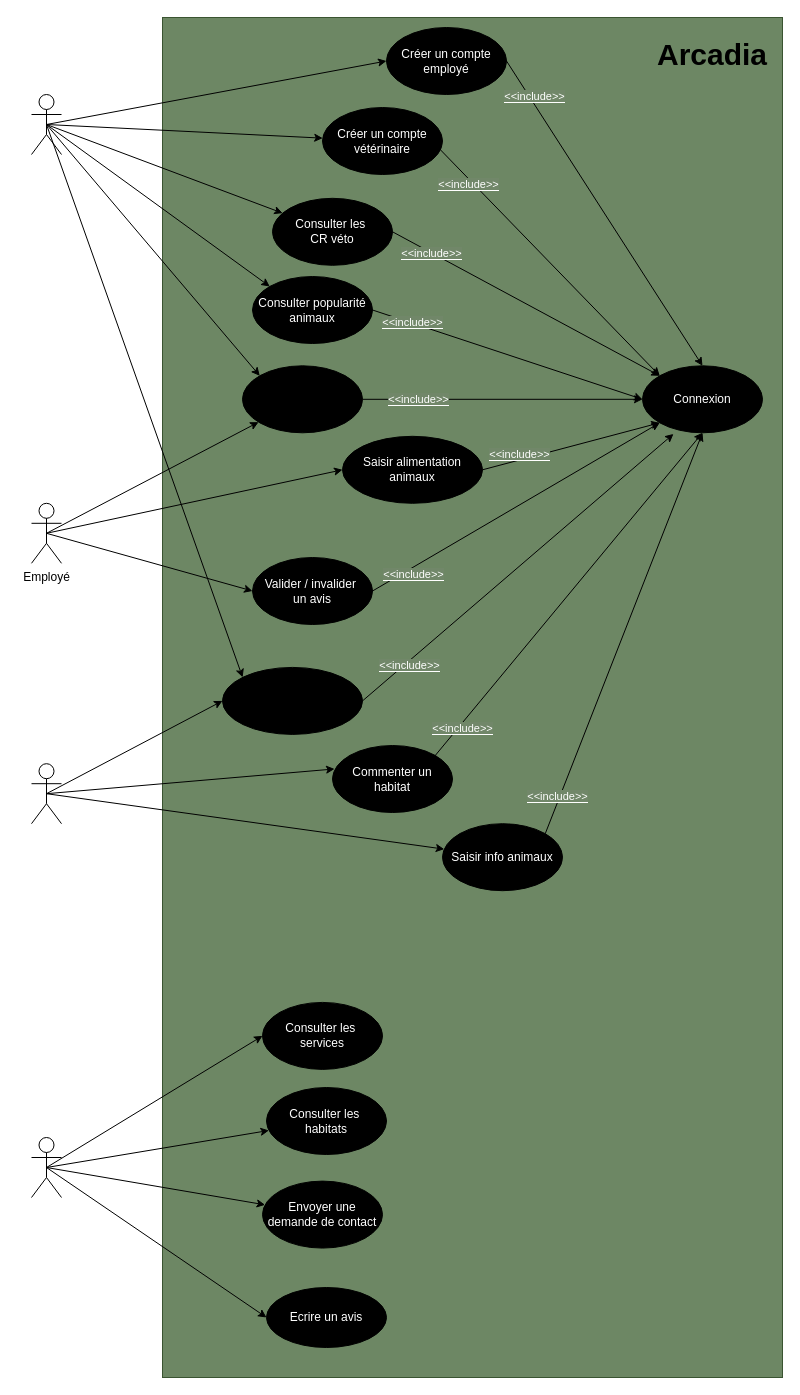
Image size: 800x1395. Some labels were removed from this diagram. Each missing label, with the box of its shape:
Admin: (30, 94, 62, 154)
Consulter alimentation animaux: (222, 666, 362, 734)
Gérer les services: (242, 365, 362, 433)
Visiteur: (30, 1136, 62, 1198)
Vétérinaire: (30, 763, 62, 824)
